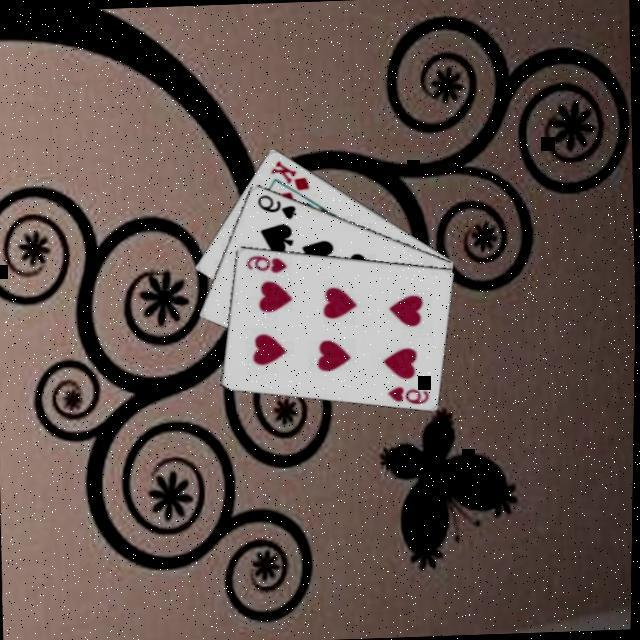6H: (241, 252, 288, 278), (383, 383, 430, 409)
9S: (252, 190, 297, 224)
KD: (265, 157, 310, 195)
